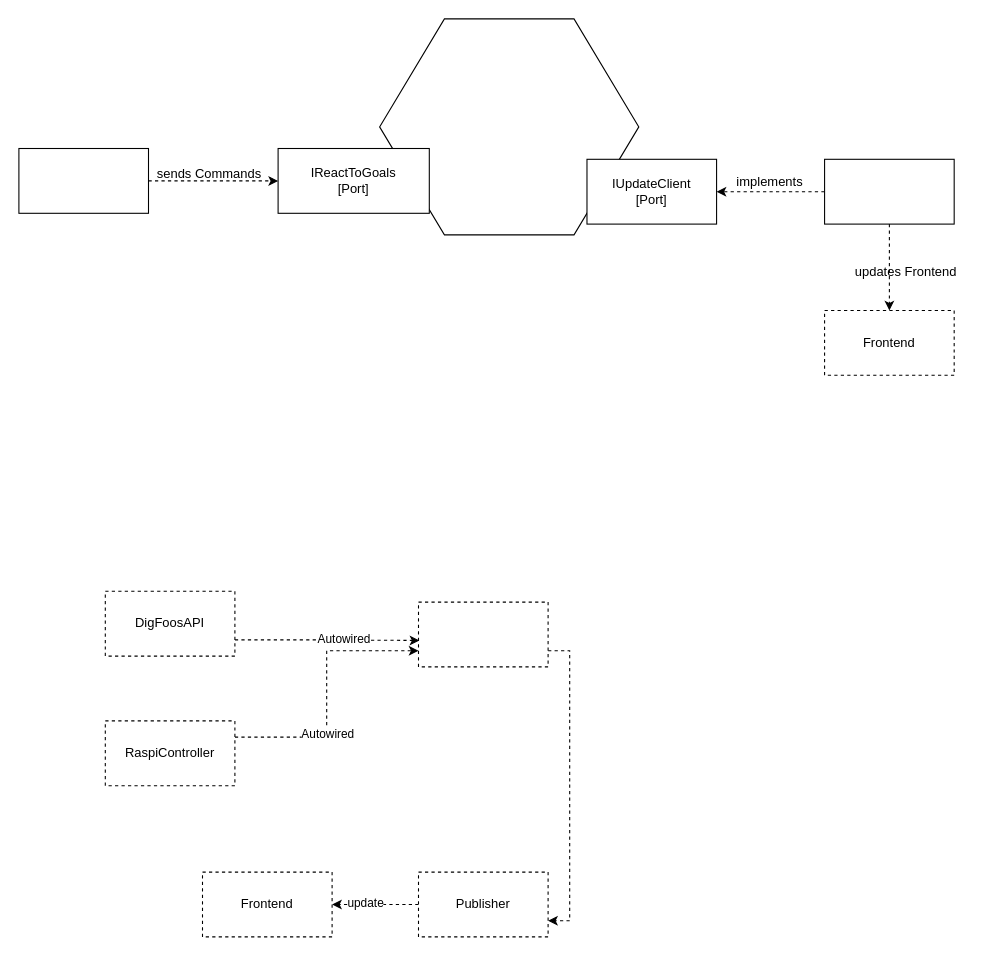
This 984x956 diagram has some shape labels left out. The centre of each missing label's shape, as x and y in pixels:
"Application & Business Logic" belongs at pixel 509 126.
"GameManager" belongs at pixel 482 634.
"HardwareController [Adapter]" belongs at pixel 83 180.
"Publisher [Adapter]" belongs at pixel 889 191.
